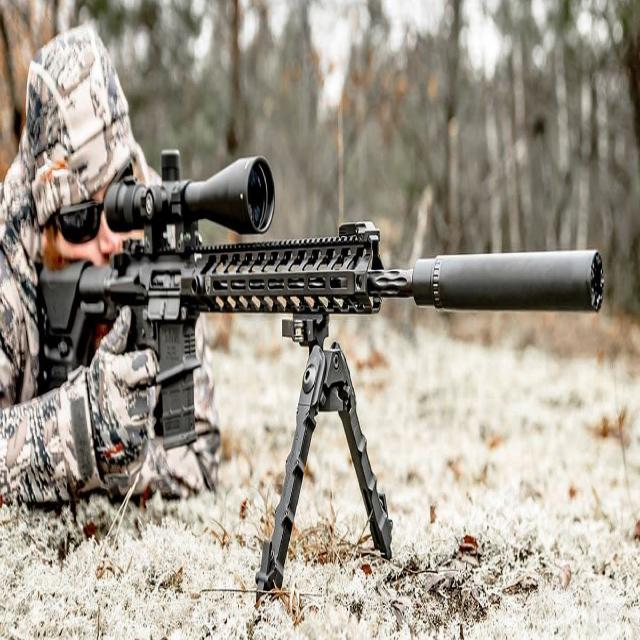Rifle: (39, 151, 605, 450)
